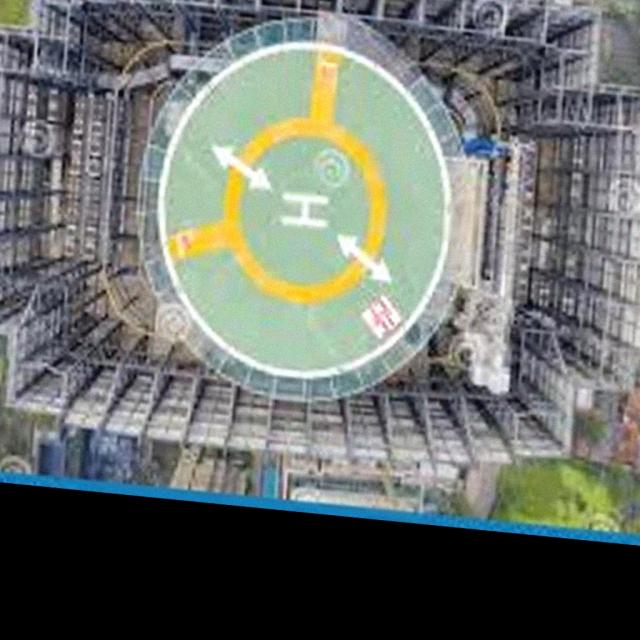helipad: (222, 114, 391, 309)
